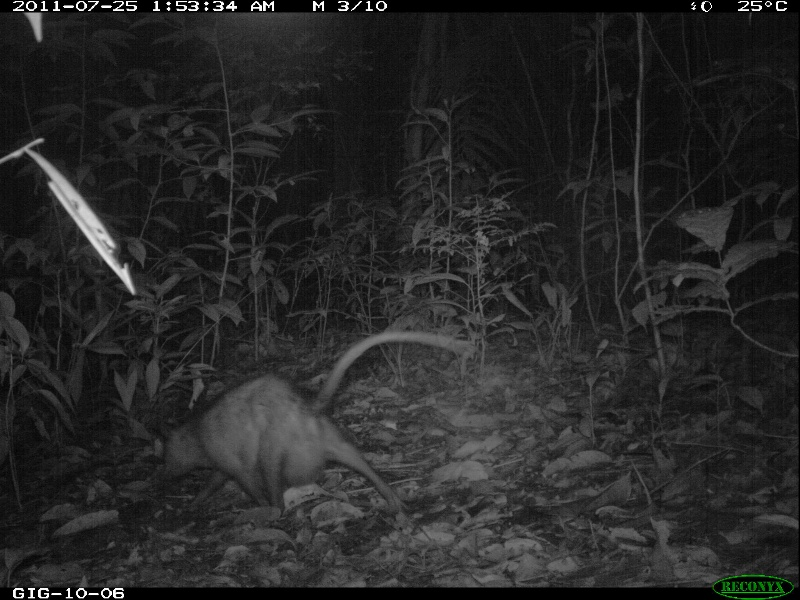opossum: (164, 331, 483, 518)
